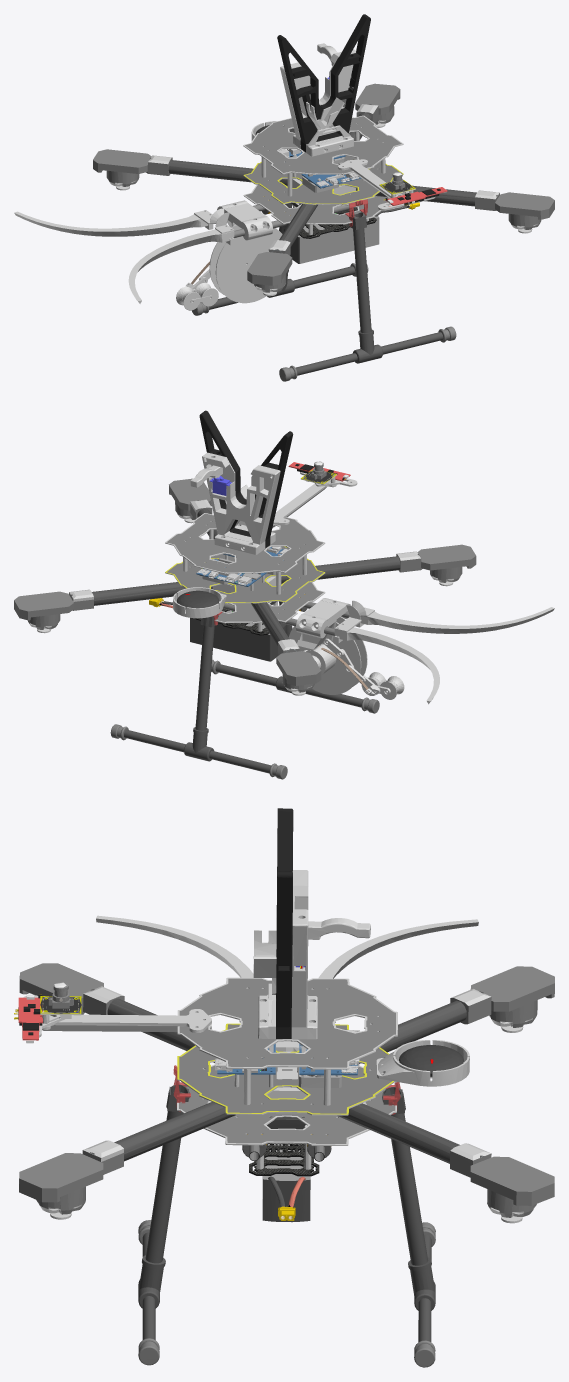
Rendered from tarot650_model_v2_smaller.dae.
3 renders of one model, top to bottom at view 1: azimuth 30°, elevation 25°; view 2: azimuth 150°, elevation 25°; view 3: azimuth 270°, elevation 25°, orthographic. The views are drawn at different scales.
Visible parts, largest first — view 1: TAROT650_mode_v2; view 2: TAROT650_mode_v2; view 3: TAROT650_mode_v2.
Boxes of the visible parts, x1,y1,x2,y2 form: TAROT650_mode_v2: (14,14,554,381); TAROT650_mode_v2: (14,410,554,779); TAROT650_mode_v2: (14,808,554,1367).
Size of the model in its own units: 0.6535 by 0.5003 by 0.4733.
Materials: 127 (2 with a texture image).
